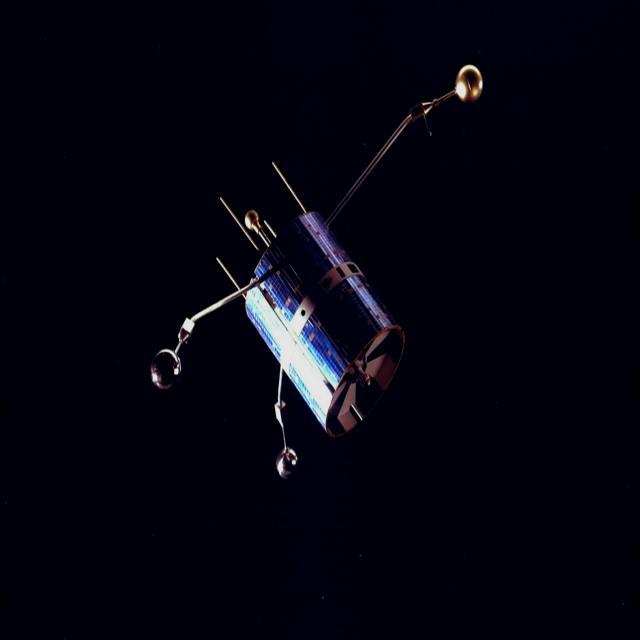satellite: (148, 61, 488, 483)
